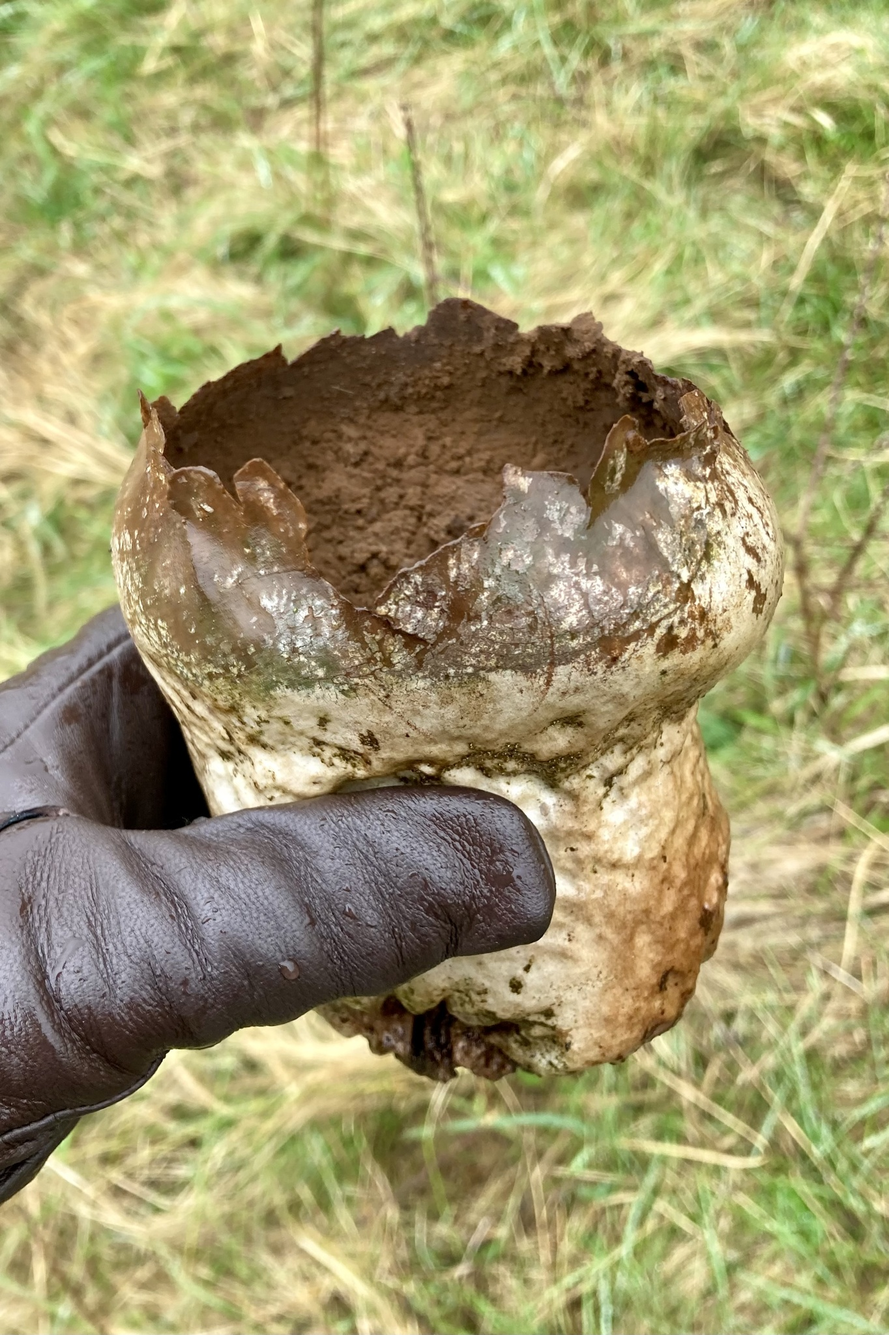Cap: (113, 300, 781, 795)
Stem: (182, 705, 729, 1079)
